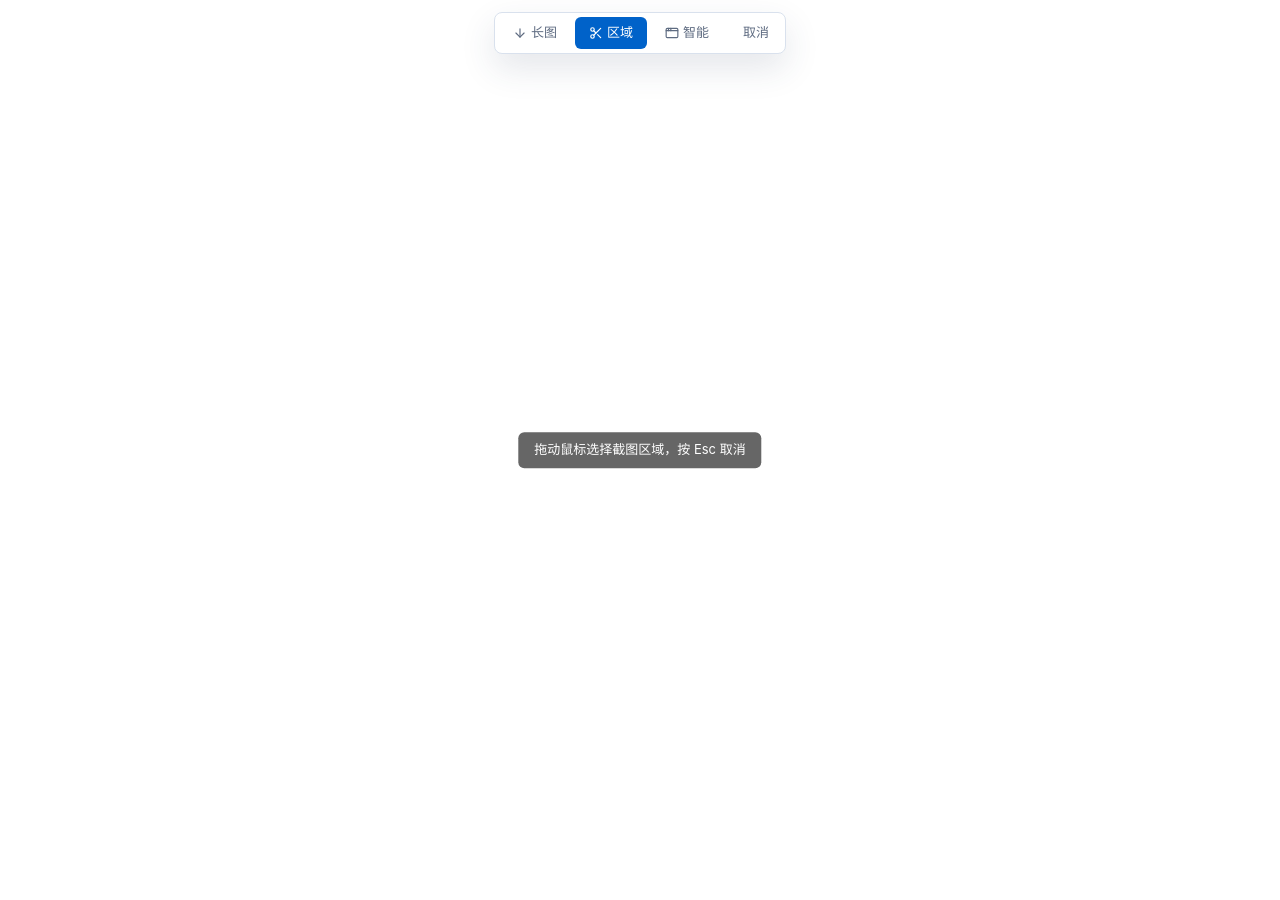
ScreenshotTool 选区调整 › 重截失败时选区回退到调整前的位置并提示
Press the mouse on the element with class "ss-overlay" at point(640, 450), box [494, 12, 786, 468]
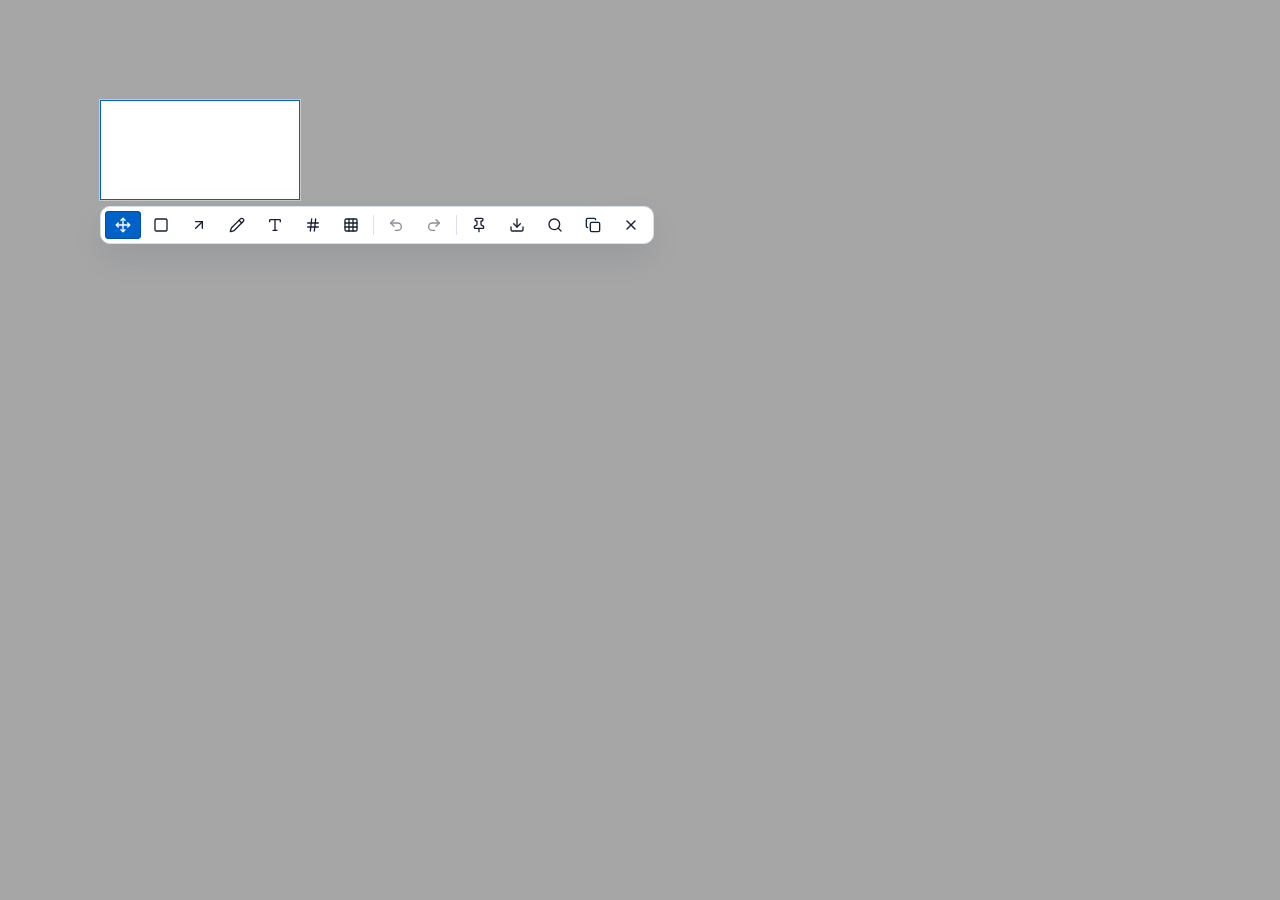
Press the mouse on the element with class "ss-adjust-body" at point(200, 150), box [100, 100, 300, 200]
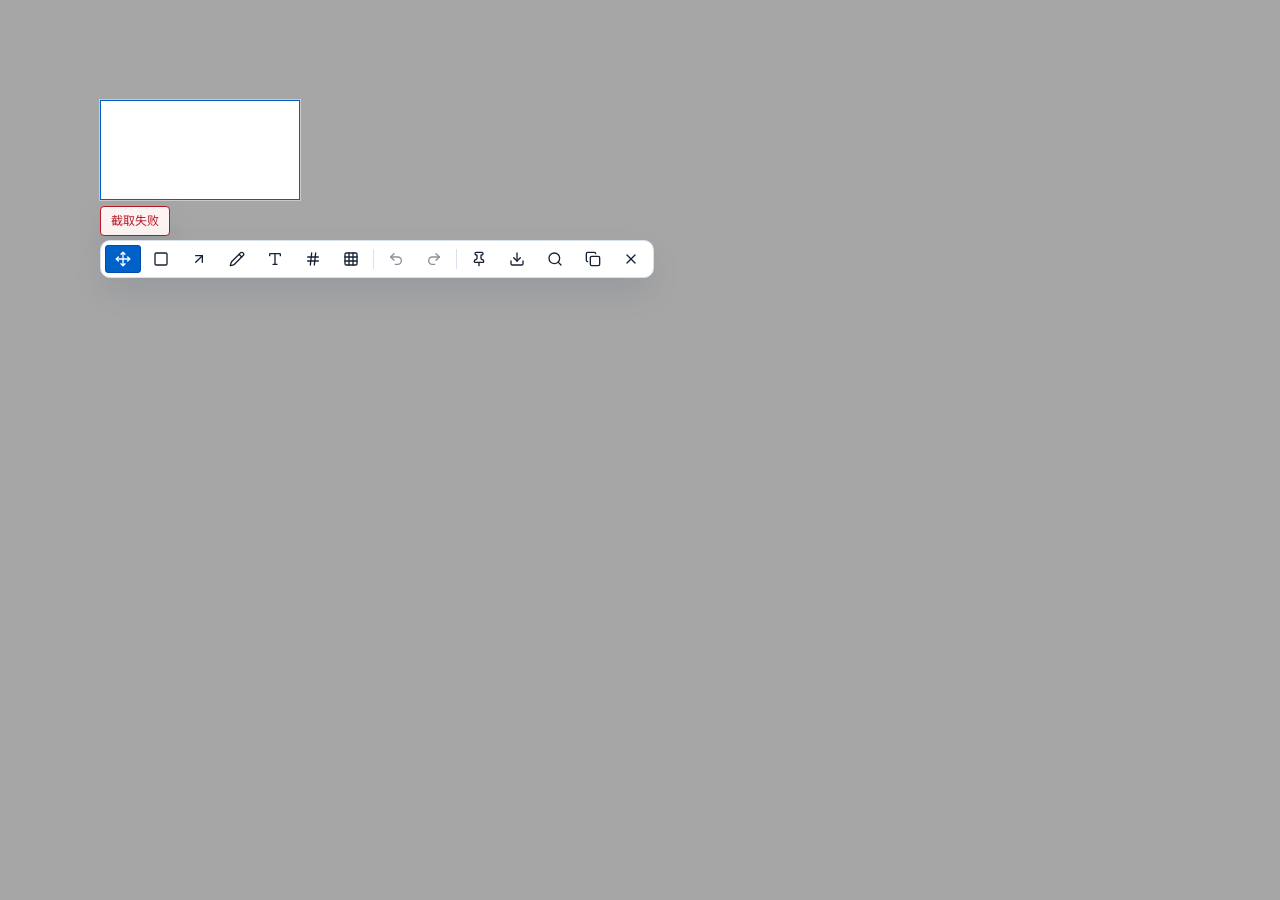
Result: the text "截取失败" is shown at [100, 206, 170, 236]
